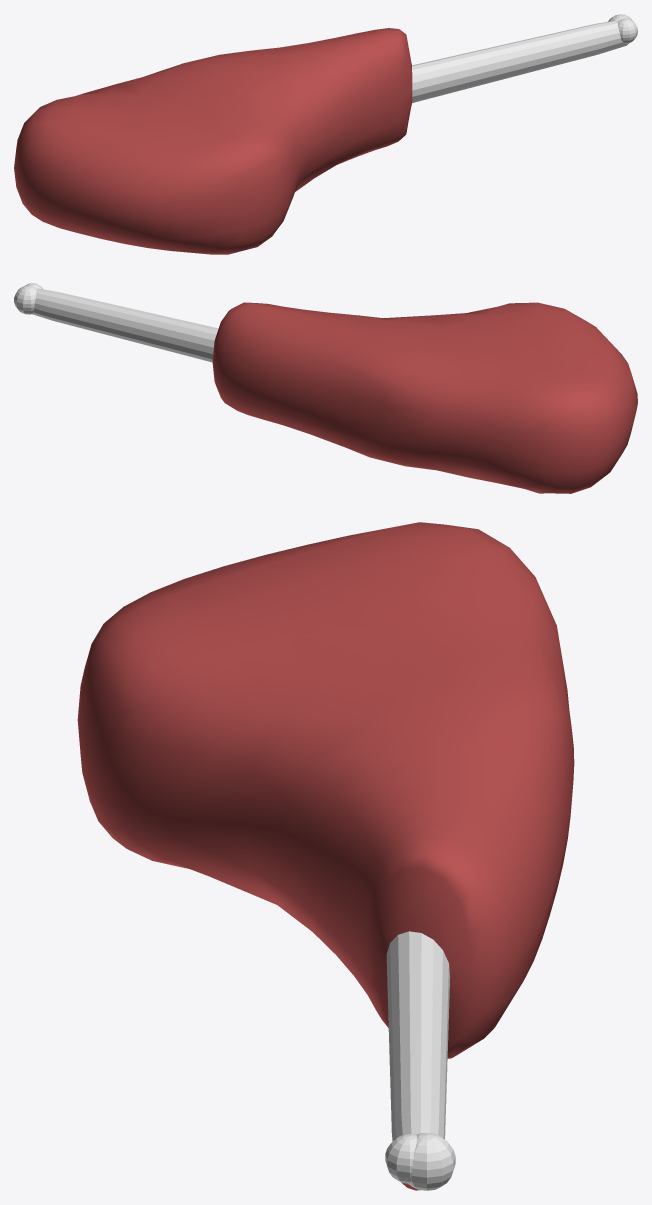
The model's file is jambon.fbx.
3 views of the same model, one above another, from view 1: azimuth 30°, elevation 25°; view 2: azimuth 150°, elevation 25°; view 3: azimuth 270°, elevation 25° (orthographic). The views are drawn at different scales.
Visible parts, largest first — view 1: pSphere3; view 2: pSphere3; view 3: pSphere3.
Part boxes in pixels (x1,y1,x2,y2): pSphere3: (14,14,637,254); pSphere3: (14,283,637,493); pSphere3: (77,522,574,1190).
Bounding box in the file's own units: 1.6 × 0.2889 × 0.5775.
